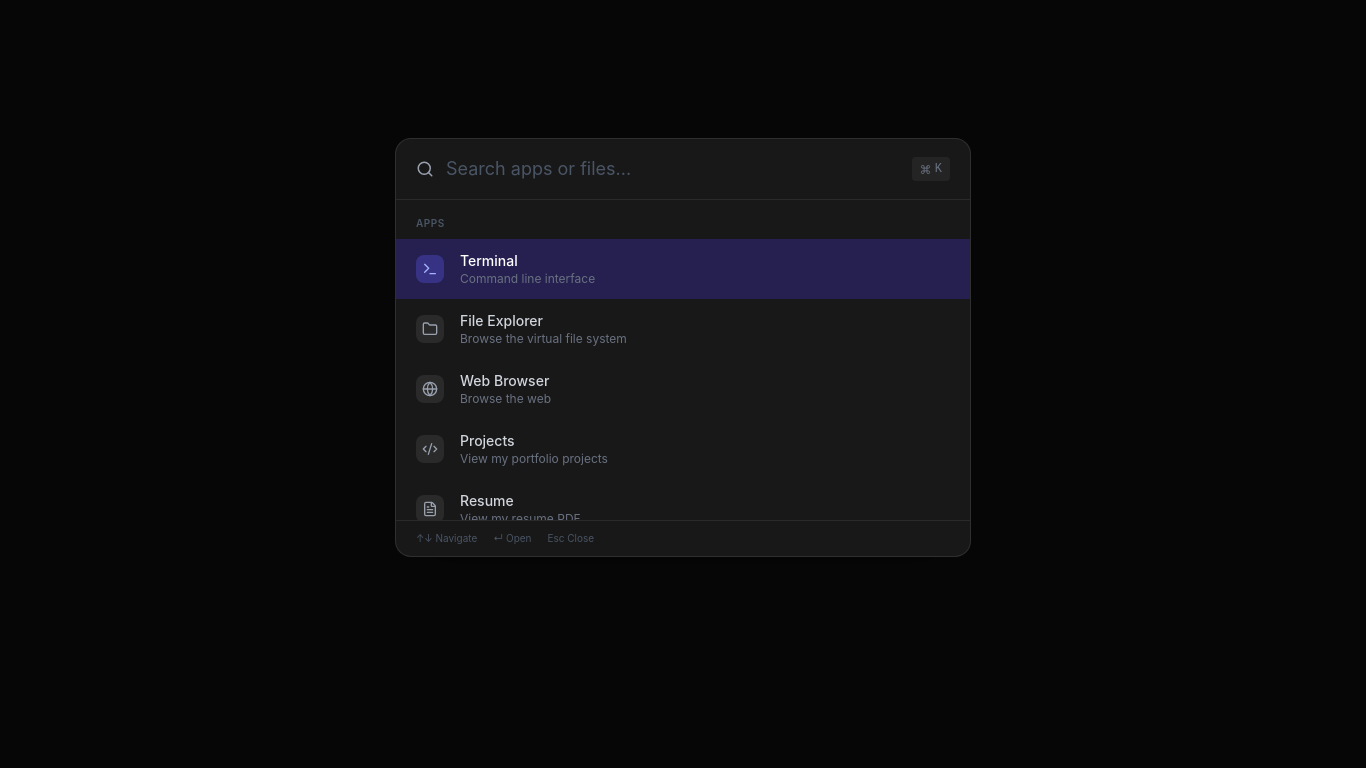
Test case: Spotlight Component — Activity Monitor Removed › searching "activity" should show no app results and display No results message
Note: No VFS files contain "activity" in their name either
Type "activity monitor" into the field with placeholder "Search apps or files..." at (679, 169), box [446,155,912,183]
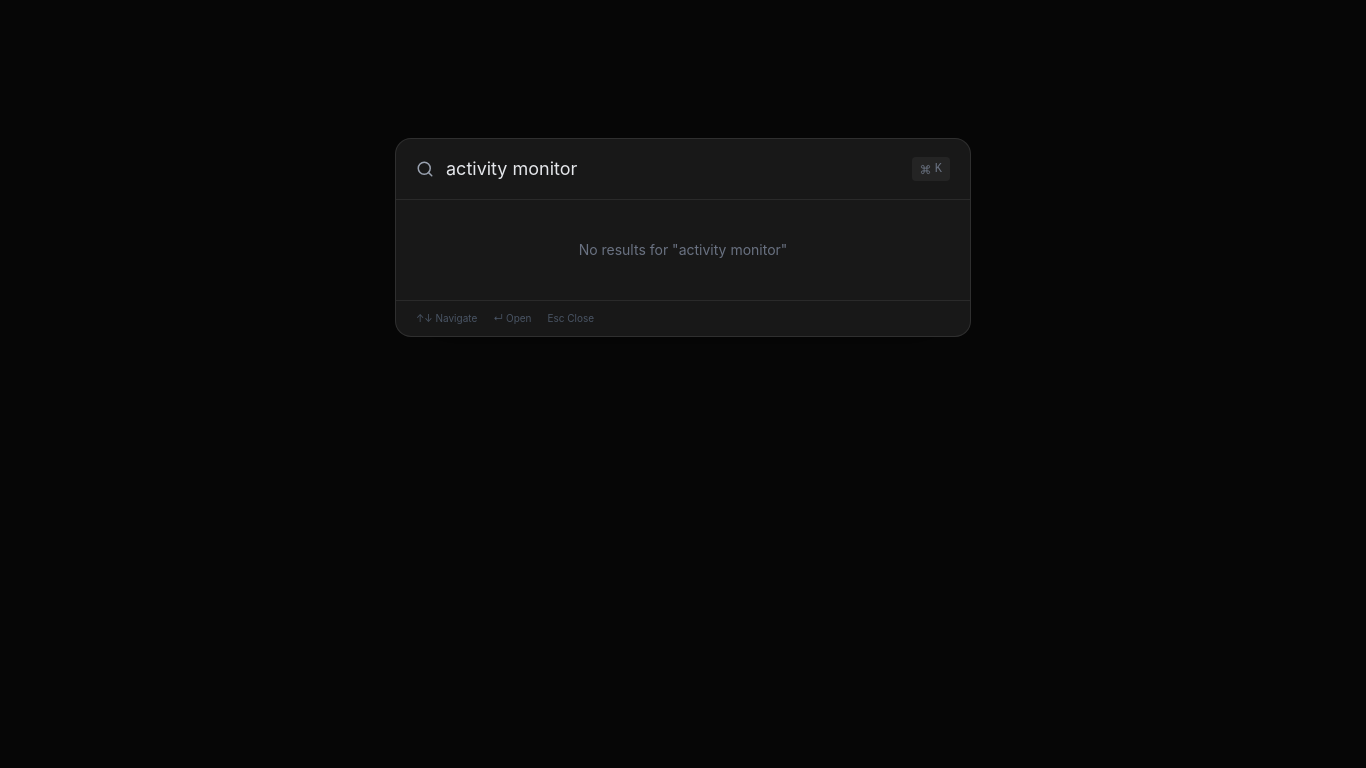
Expected: the text "No results for \"activity monitor\"" is shown, [579,241,787,258]
